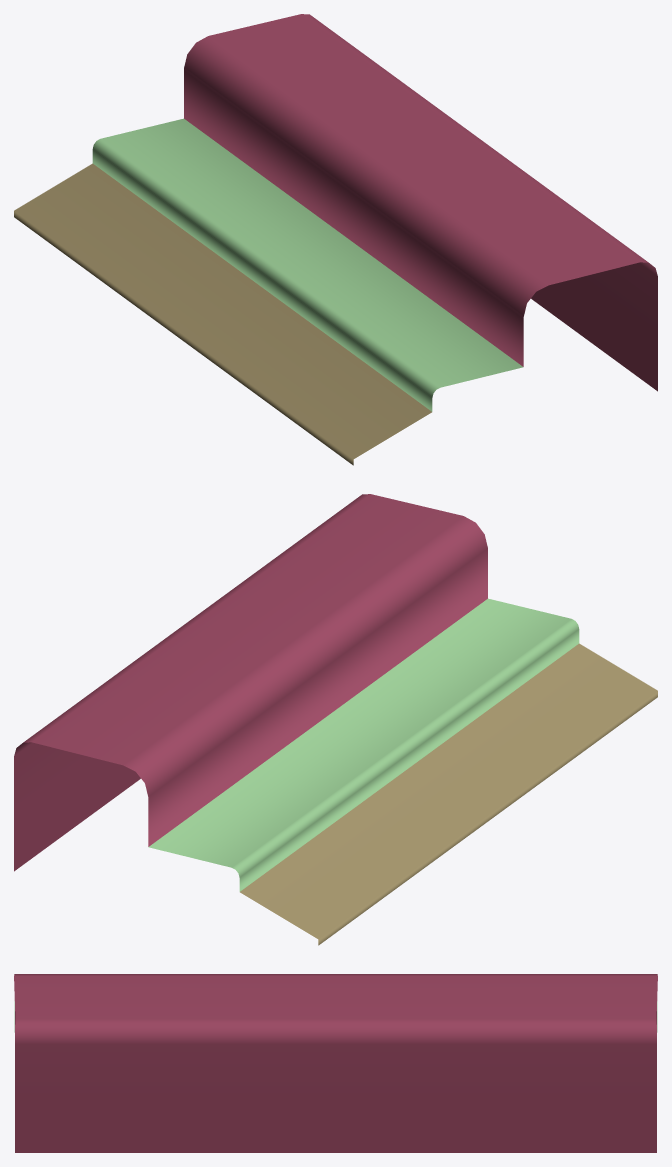
Rendered from Stadium_EndLong.fbx.
3 renders of one model, top to bottom at view 1: azimuth 30°, elevation 25°; view 2: azimuth 150°, elevation 25°; view 3: azimuth 270°, elevation 25°, orthographic. The views are drawn at different scales.
Visible parts, largest first — view 1: Stadium_EndLong; view 2: Stadium_EndLong; view 3: Stadium_EndLong.
Part boxes in pixels (x1=…): Stadium_EndLong: x1=14, y1=14, x2=657, y2=465; Stadium_EndLong: x1=14, y1=494, x2=657, y2=945; Stadium_EndLong: x1=14, y1=974, x2=657, y2=1152.
Size of the model in its own units: 764 by 320 by 1481.
